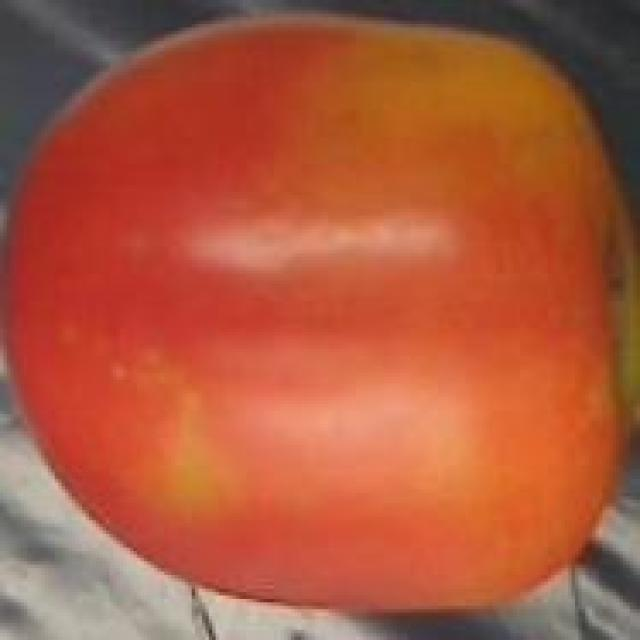overripe tomato: (7, 7, 640, 619)
